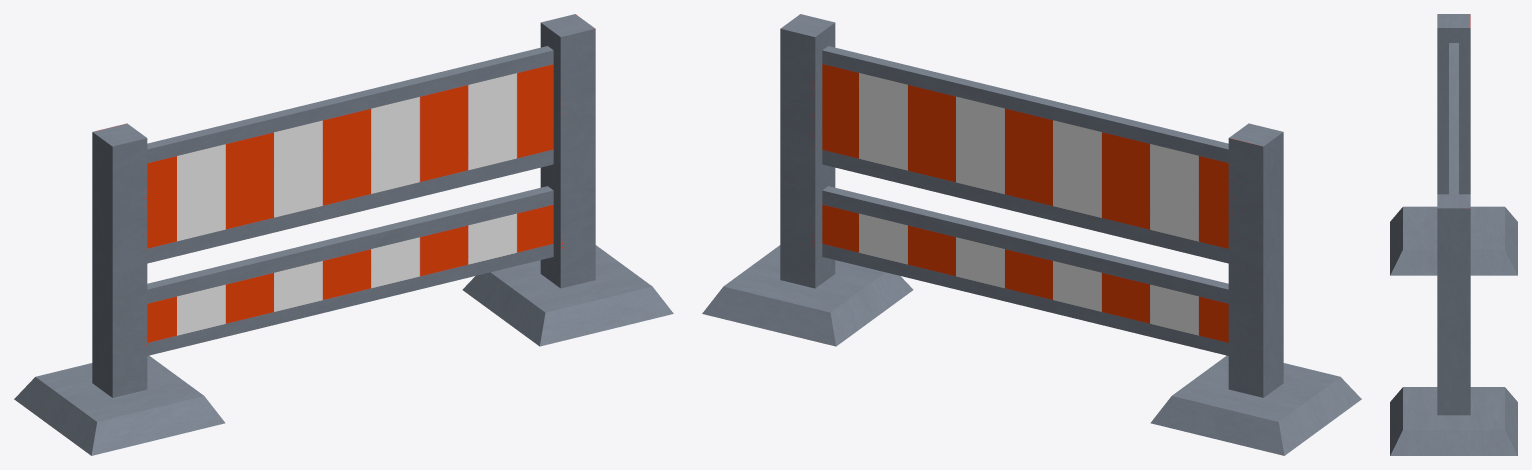
File: barier_2.fbx
3 views of the same model, side by side, from view 1: azimuth 30°, elevation 25°; view 2: azimuth 150°, elevation 25°; view 3: azimuth 270°, elevation 25° (orthographic). The views are drawn at different scales.
Parts seen in each view (by area): view 1: Cube.002; view 2: Cube.002; view 3: Cube.002.
Boxes of the visible parts, x1,y1,x2,y2 form: Cube.002: (14,14,673,455); Cube.002: (702,14,1361,455); Cube.002: (1390,14,1517,455).
Bounding box in the file's own units: 107 × 48.47 × 24.64.
Materials: 1 (1 with a texture image).
